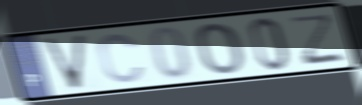0: (147, 24, 197, 83), (247, 15, 292, 73)
C: (96, 31, 148, 85)
O: (193, 21, 246, 77)
V: (39, 32, 89, 93)
Z: (290, 11, 346, 67)
